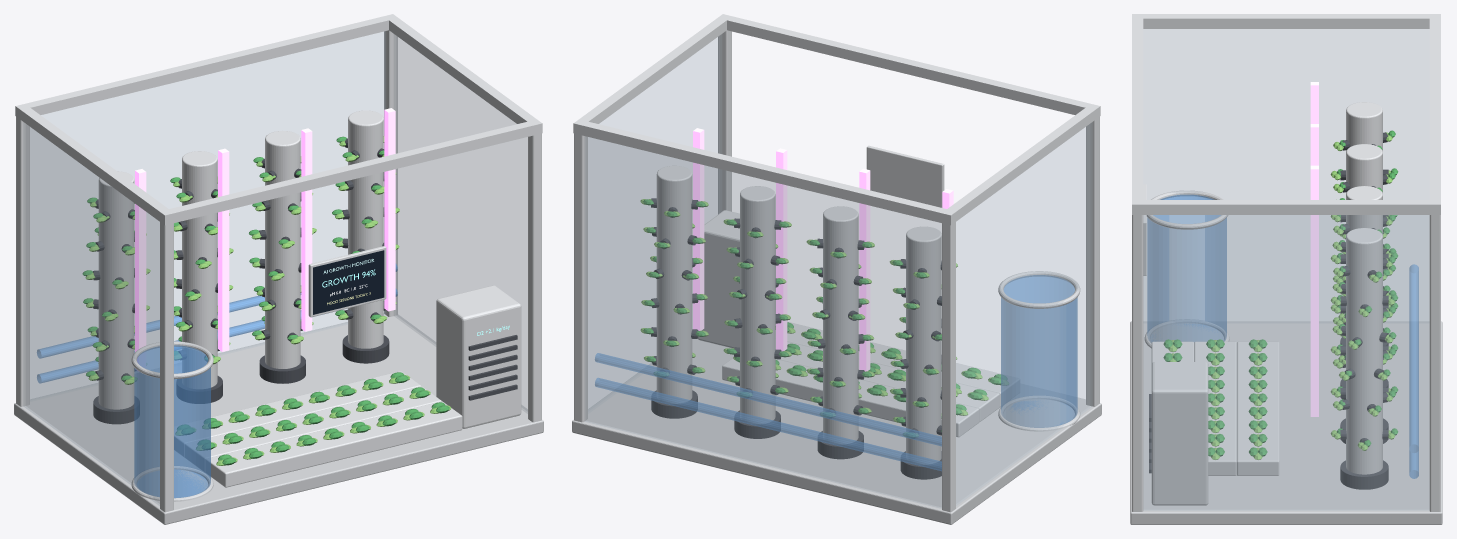
The model's file is greenhouse.glb.
The picture shows the model from 3 angles, left to right: view 1: azimuth 30°, elevation 25°; view 2: azimuth 150°, elevation 25°; view 3: azimuth 270°, elevation 25°; orthographic projection. The views are drawn at different scales.
Parts seen in each view (by area): view 1: Back_Glass, Side_Glass_L, Floor_Plate, Side_Glass_R, O2_Module, Nutrient_Tank, Hydro_Tower, Hydro_Tower.002, Grow_Tray.002, Hydro_Tower.001, Top_Beam, Top_Beam.001 (+23 smaller); view 2: Back_Glass, Side_Glass_L, Floor_Plate, Side_Glass_R, Nutrient_Tank, Hydro_Tower.003, Hydro_Tower.002, Hydro_Tower.001, Hydro_Tower, Top_Beam.001, Top_Beam, O2_Module (+21 smaller); view 3: Side_Glass_R, Side_Glass_L, Floor_Plate, Nutrient_Tank, O2_Module, Hydro_Tower.003, Side_Beam.001, Side_Beam, Grow_Tray, Frame_Post.002, Frame_Post.003, Grow_Tray.001 (+13 smaller).
Part boxes in pixels (left/top/right/bottom): Back_Glass: left=30, top=31, right=385, bottom=400; Side_Glass_L: left=24, top=123, right=159, bottom=505; Floor_Plate: left=14, top=313, right=543, bottom=524; Side_Glass_R: left=394, top=35, right=527, bottom=413; O2_Module: left=436, top=285, right=521, bottom=428; Nutrient_Tank: left=134, top=345, right=210, bottom=498; Hydro_Tower: left=98, top=171, right=134, bottom=409; Hydro_Tower.002: left=265, top=131, right=300, bottom=368; Grow_Tray.002: left=205, top=401, right=462, bottom=487; Hydro_Tower.001: left=182, top=151, right=217, bottom=388; Top_Beam: left=159, top=121, right=541, bottom=224; Top_Beam.001: left=15, top=14, right=397, bottom=119; Back_Glass: left=585, top=136, right=941, bottom=508; Side_Glass_L: left=956, top=123, right=1091, bottom=505; Floor_Plate: left=572, top=339, right=1101, bottom=524; Side_Glass_R: left=588, top=35, right=721, bottom=411; Nutrient_Tank: left=1001, top=275, right=1077, bottom=427; Hydro_Tower.003: left=656, top=165, right=692, bottom=403; Hydro_Tower.002: left=740, top=186, right=775, bottom=423; Hydro_Tower.001: left=823, top=206, right=858, bottom=443; Hydro_Tower: left=906, top=226, right=941, bottom=464; Top_Beam.001: left=575, top=120, right=956, bottom=224; Top_Beam: left=718, top=14, right=1100, bottom=119; O2_Module: left=698, top=210, right=775, bottom=348; Side_Glass_R: left=1143, top=215, right=1429, bottom=510; Side_Glass_L: left=1143, top=29, right=1429, bottom=322; Floor_Plate: left=1130, top=321, right=1442, bottom=524; Nutrient_Tank: left=1147, top=195, right=1226, bottom=342; O2_Module: left=1151, top=362, right=1208, bottom=505; Hydro_Tower.003: left=1346, top=228, right=1382, bottom=474; Side_Beam.001: left=1132, top=200, right=1440, bottom=214; Side_Beam: left=1132, top=14, right=1440, bottom=28; Grow_Tray: left=1237, top=341, right=1279, bottom=475; Frame_Post.002: left=1132, top=211, right=1143, bottom=511; Frame_Post.003: left=1429, top=211, right=1440, bottom=511; Grow_Tray.001: left=1194, top=341, right=1236, bottom=475.
Size of the model in its own units: 3.2 by 2.49 by 2.2.
